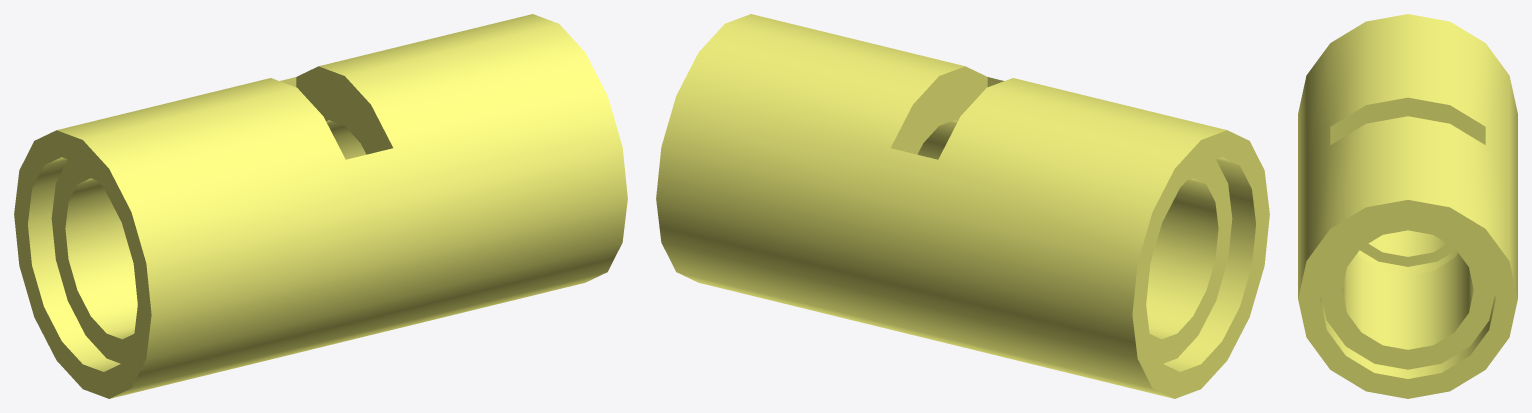
3 views of the same model, side by side, from view 1: azimuth 30°, elevation 25°; view 2: azimuth 150°, elevation 25°; view 3: azimuth 270°, elevation 25° (orthographic). The views are drawn at different scales.
Parts seen in each view (by area): view 1: 62462.dat; view 2: 62462.dat; view 3: 62462.dat.
Part boxes in pixels (x1,y1,x2,y2): 62462.dat: (14,14,627,398); 62462.dat: (656,14,1269,398); 62462.dat: (1298,14,1517,398).
Bounding box in the file's own units: 0.016 × 0.008 × 0.008.
